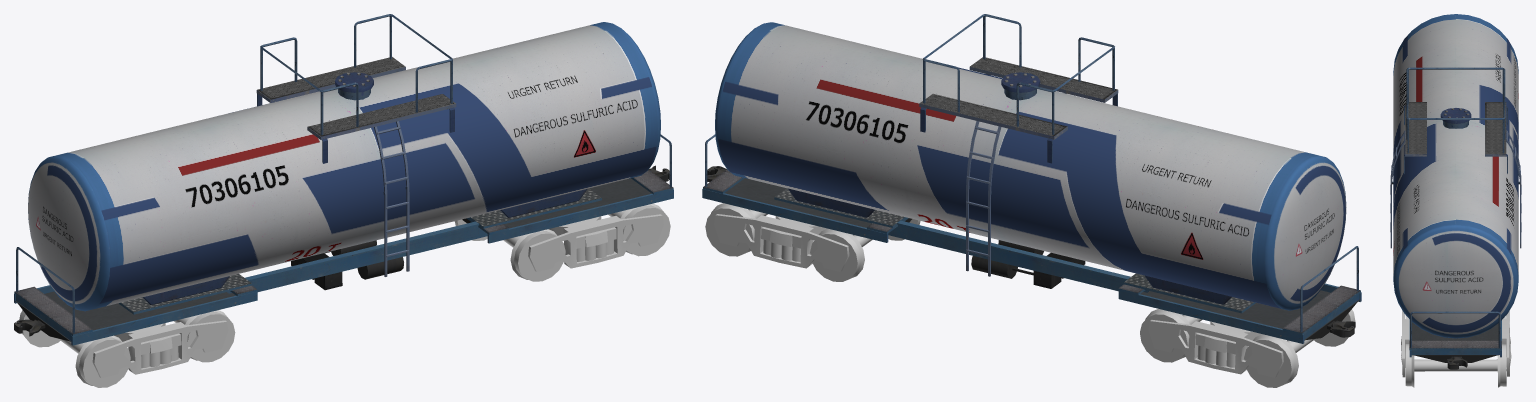
The model's file is TrainTank010.FBX.
3 renders of one model, left to right at view 1: azimuth 30°, elevation 25°; view 2: azimuth 150°, elevation 25°; view 3: azimuth 270°, elevation 25°, orthographic. The views are drawn at different scales.
Visible parts, largest first — view 1: TrainTank010, TrainTank0Wheels, TrainTank0DetailBlue, TrainTank0Down; view 2: TrainTank010, TrainTank0Wheels, TrainTank0DetailBlue, TrainTank0Down; view 3: TrainTank010, TrainTank0Wheels, TrainTank0DetailBlue, TrainTank0Down.
Boxes of the visible parts, x1=… form: TrainTank010: x1=16, y1=14, x2=671, y2=333; TrainTank0Wheels: x1=19, y1=203, x2=670, y2=387; TrainTank0DetailBlue: x1=14, y1=170, x2=673, y2=345; TrainTank0Down: x1=14, y1=165, x2=669, y2=341; TrainTank010: x1=705, y1=14, x2=1358, y2=332; TrainTank0Wheels: x1=705, y1=203, x2=1355, y2=387; TrainTank0DetailBlue: x1=702, y1=169, x2=1361, y2=343; TrainTank0Down: x1=707, y1=166, x2=1359, y2=340; TrainTank010: x1=1390, y1=14, x2=1521, y2=347; TrainTank0Wheels: x1=1401, y1=310, x2=1511, y2=387; TrainTank0DetailBlue: x1=1409, y1=320, x2=1501, y2=357; TrainTank0Down: x1=1412, y1=322, x2=1498, y2=369.
Size of the model in its own units: 19420 by 7027 by 4327.
